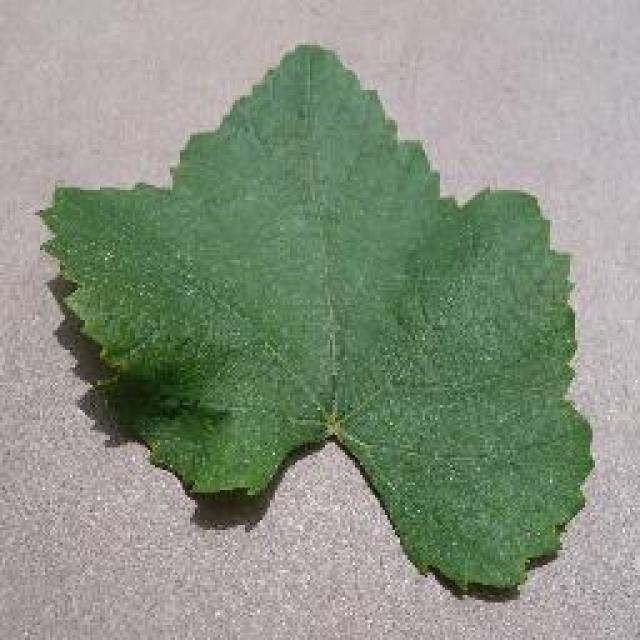Grape___healthy: (42, 45, 590, 588)
